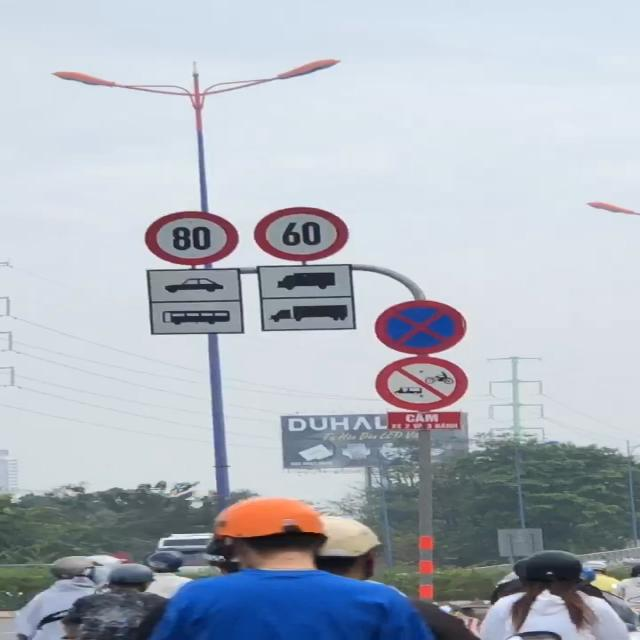Bien bao cam dung xe va do xe: (374, 298, 471, 357)
Bien bao toc do toi da cho phep: (142, 210, 242, 266), (252, 206, 345, 259)
